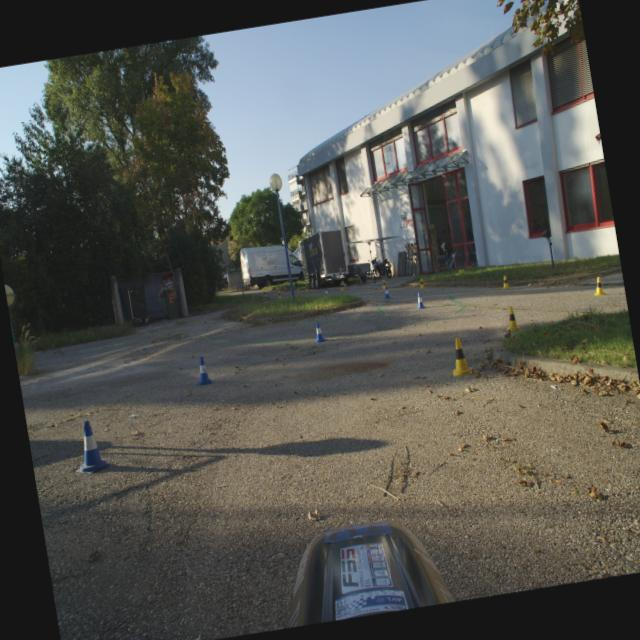blue_cone: (68, 418, 112, 477), (192, 356, 214, 386), (312, 321, 326, 343), (413, 292, 426, 310), (382, 286, 392, 299), (324, 288, 328, 296)
orange_cone: (282, 284, 288, 292), (242, 290, 245, 295)
yellow_cone: (447, 336, 474, 378), (502, 304, 522, 334), (590, 276, 606, 297), (500, 275, 510, 290), (418, 278, 426, 290), (339, 282, 345, 292), (276, 290, 282, 300), (381, 280, 386, 290), (304, 284, 310, 292), (262, 290, 266, 298)
